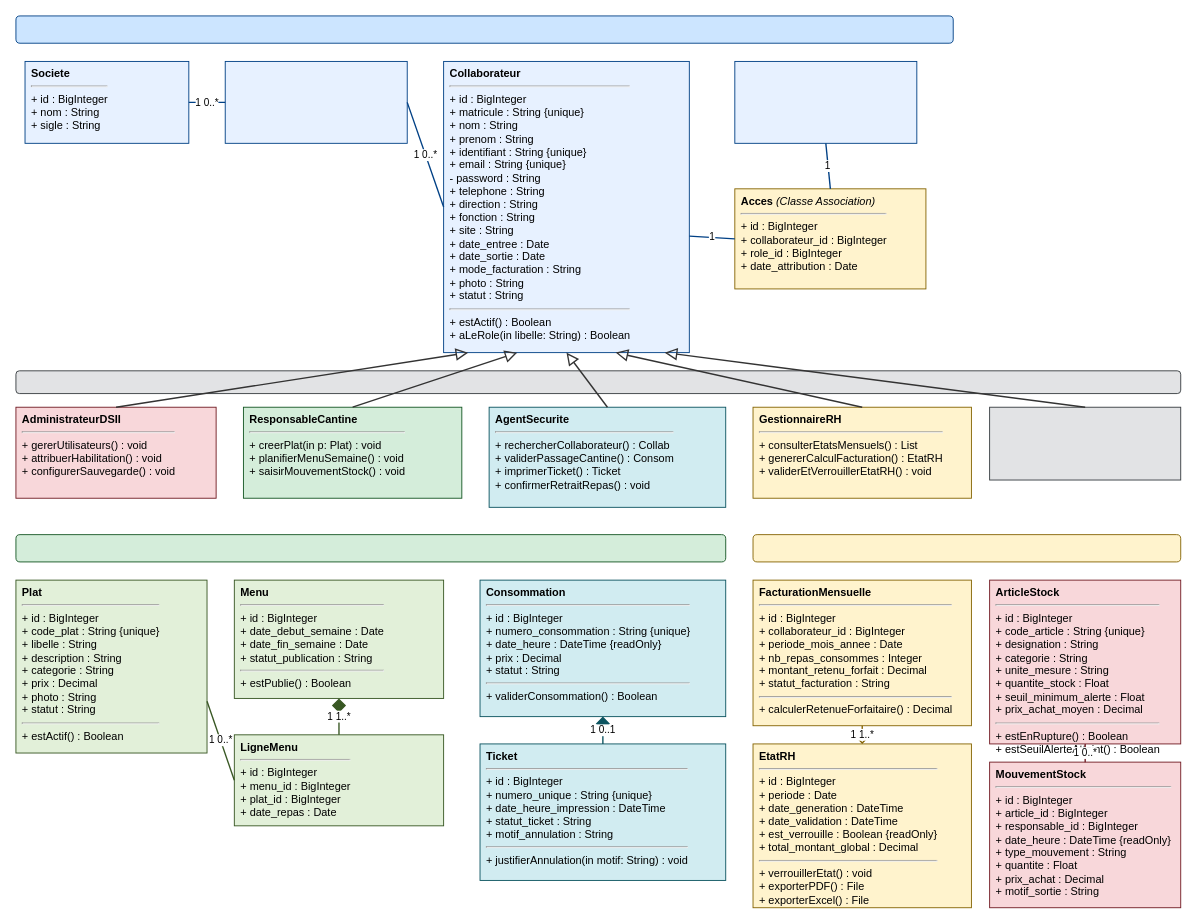
Image size: 1197x924. Some labels were removed from this diagram. The shapes that lost their labels are listed below. From the top down, each one's centre as x and y in pixels, then its label:
point (484, 29): MODULE RH, SÉCURITÉ & UTILISATEURS
point (315, 102): Departement + id : BigInteger + societe_id : BigInteger + nom : String
point (825, 102): Role + id : BigInteger + libelle : String {unique} + description : String
point (598, 382): SPÉCIALISATIONS RÔLES MÉTIER
point (1085, 443): DirectionManagement + consulterTableauDeBord() : void
point (370, 548): MODULE CATALOGUE, MENUS, PASSAGES CANTINE & TICKETS
point (966, 548): MODULES FACTURATION RH & GESTION DU STOCK
